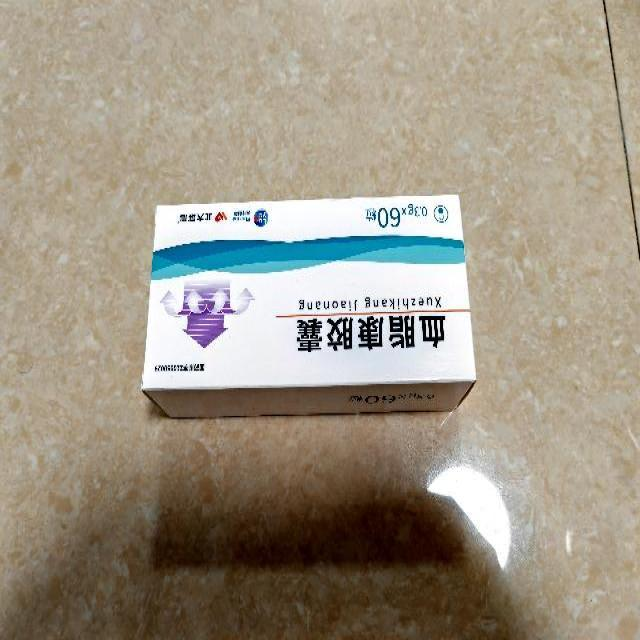box: (144, 195, 478, 418)
